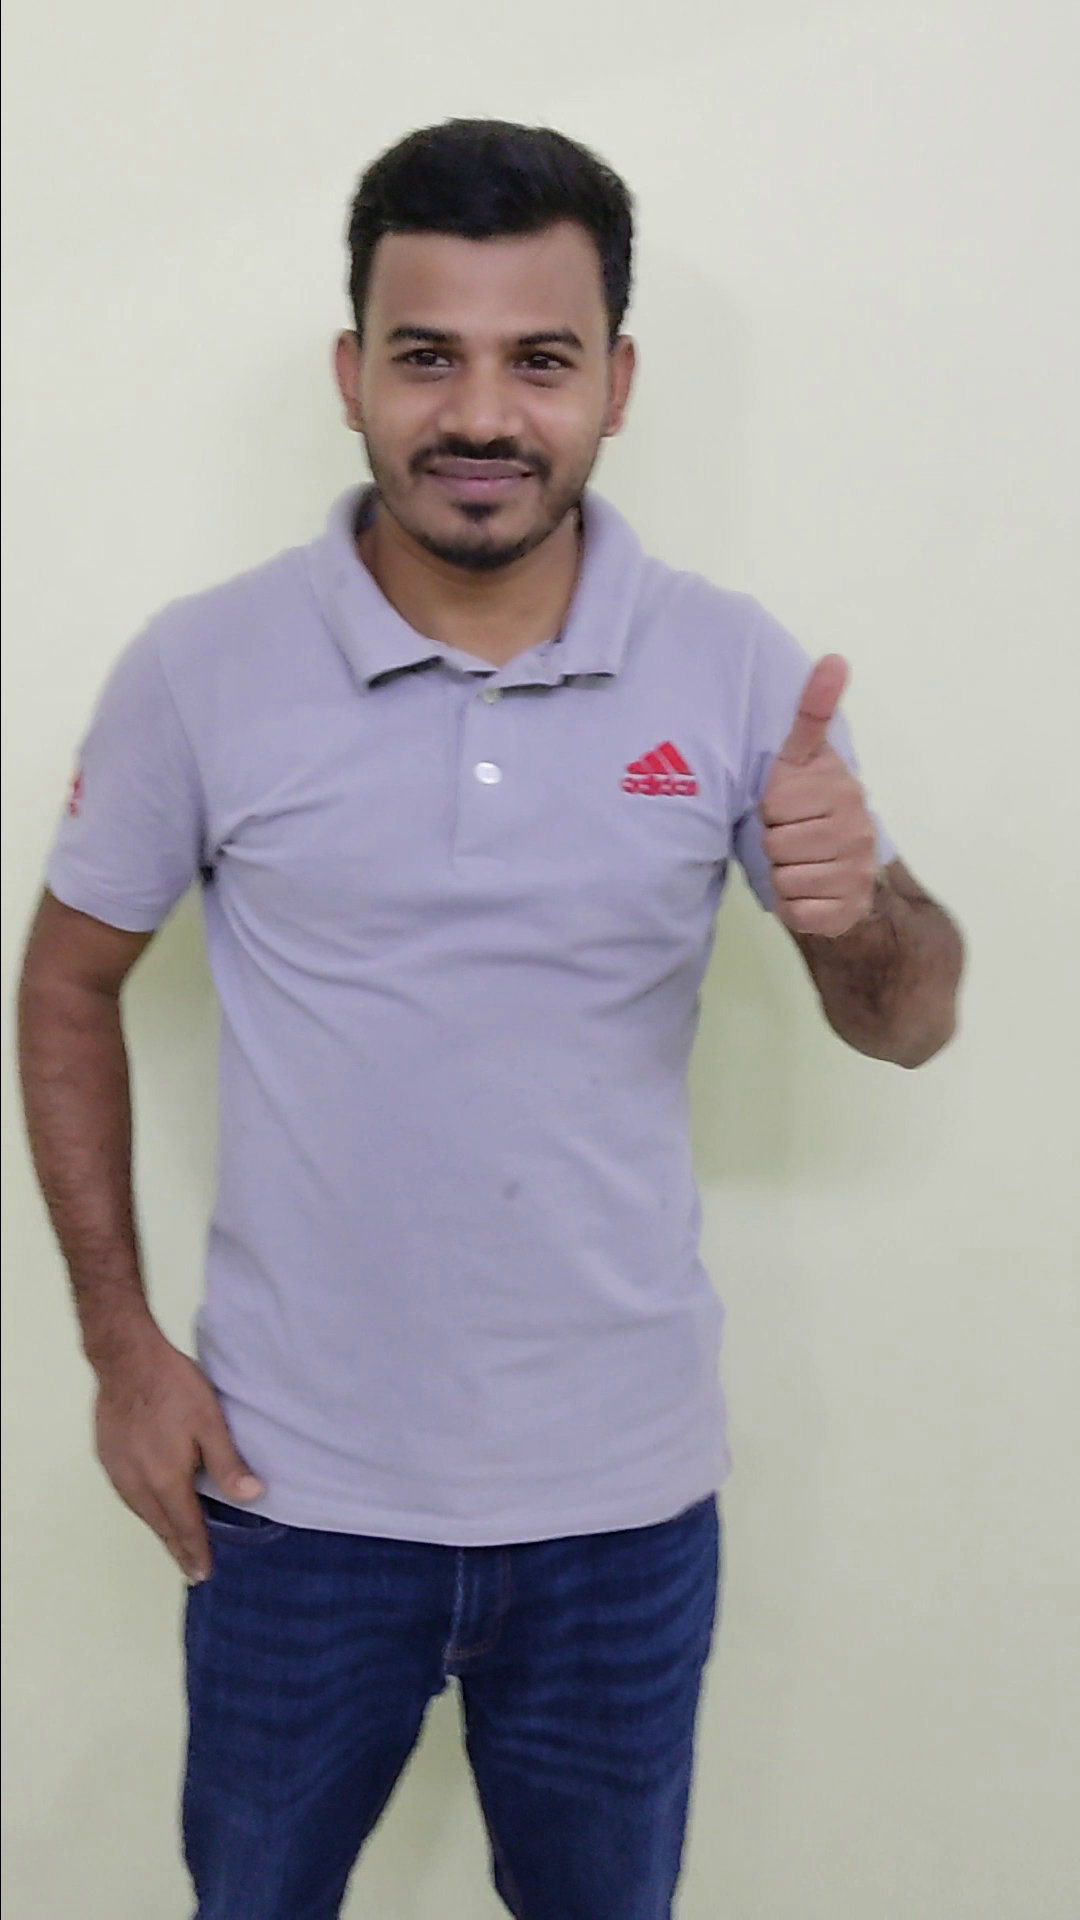Like: (723, 644, 922, 971)
None: (84, 1327, 276, 1604)
